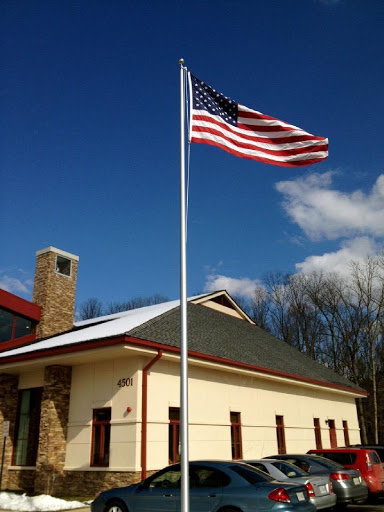America flag: (188, 72, 332, 169)
